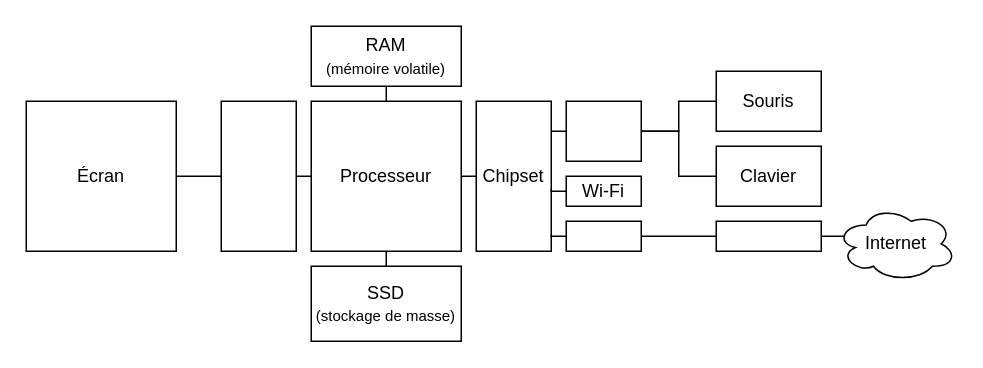
This 983x368 diagram has some shape labels left out. Each missing label, with the box of its shape:
Ethernet: (565, 220, 641, 251)
GPU: (220, 100, 296, 251)
Routeur: (715, 220, 821, 251)
USB: (565, 100, 641, 161)
